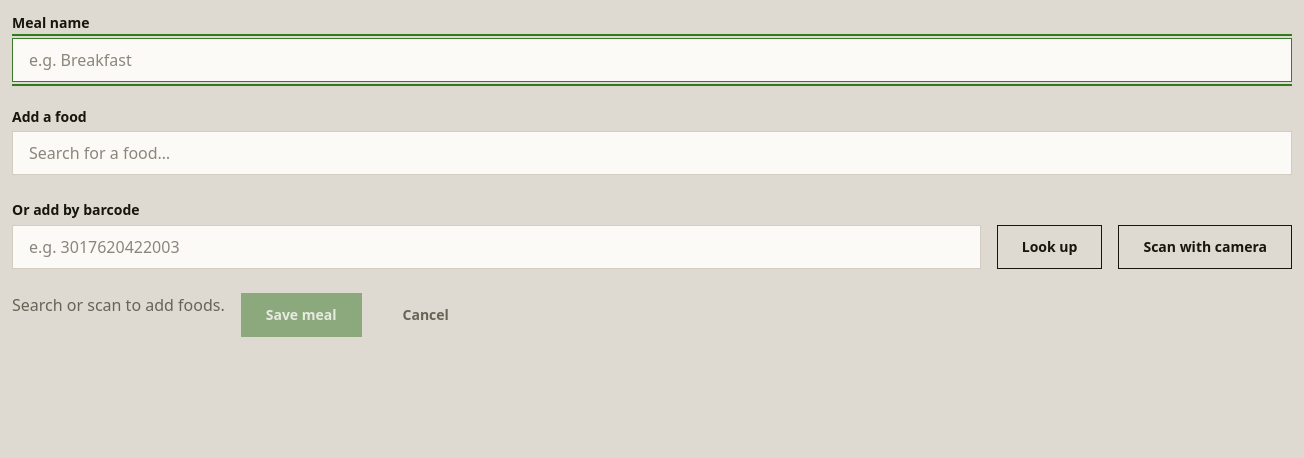
Scenario: MealEditor › falls back to a generic message when a lookup fails unexpectedly
Type "6000" into the field labelled "Or add by barcode" at (496, 247), box left=12, top=225, right=981, bottom=269
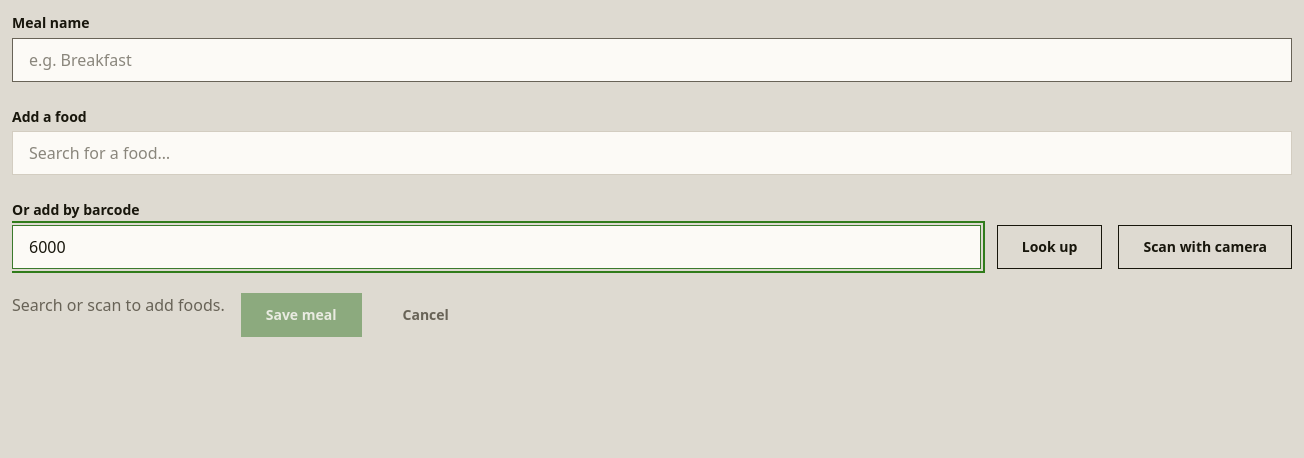
Click the button "Look up" at (1050, 247), box left=997, top=225, right=1102, bottom=269
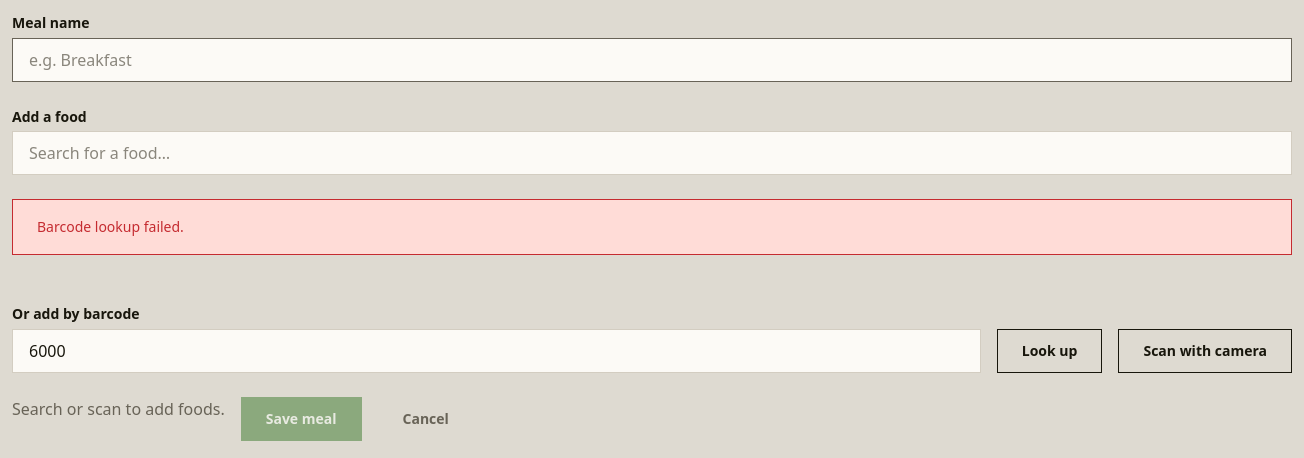
expect the text "Barcode lookup failed." is shown: met, box left=12, top=199, right=1292, bottom=255
